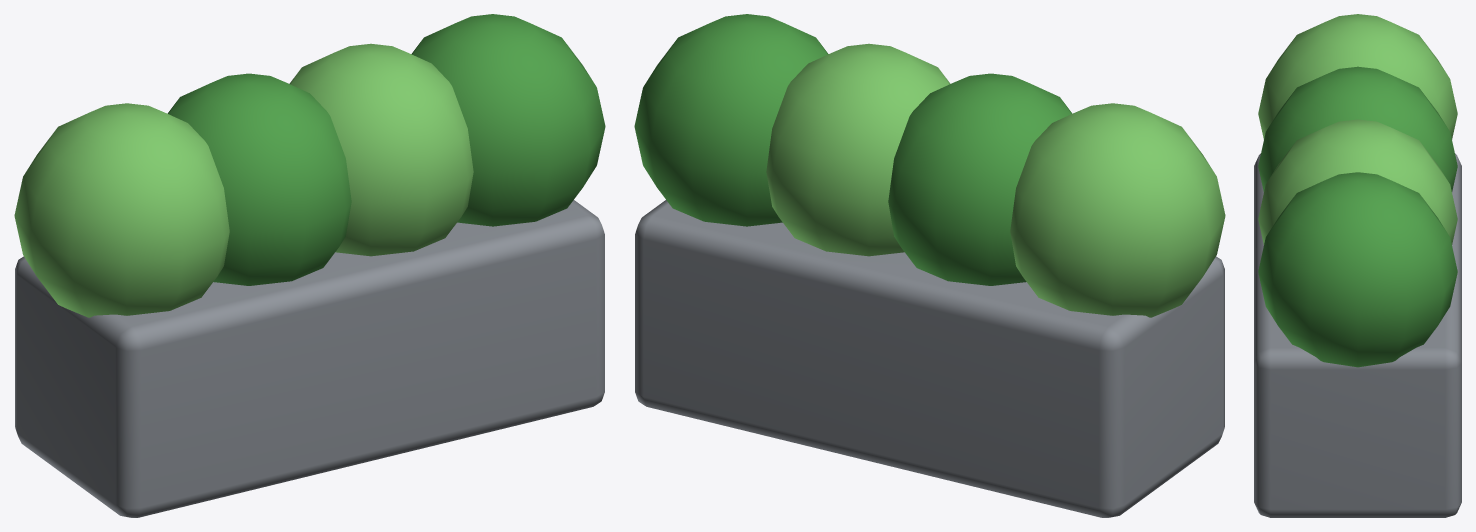
File: hedge_planter.glb
3 renders of one model, left to right at view 1: azimuth 30°, elevation 25°; view 2: azimuth 150°, elevation 25°; view 3: azimuth 270°, elevation 25°, orthographic. The views are drawn at different scales.
Parts seen in each view (by area): view 1: Box, Bush, Bush.003, Bush.001, Bush.002; view 2: Box, Bush, Bush.003, Bush.001, Bush.002; view 3: Box, Bush.003, Bush.001, Bush.002, Bush.
Boxes of the visible parts, x1,y1,x2,y2 form: Box: (15,200,604,517); Bush: (14,103,229,317); Bush.003: (411,14,605,226); Bush.001: (167,73,351,285); Bush.002: (289,43,473,256); Box: (635,200,1224,517); Bush: (1010,103,1225,317); Bush.003: (634,14,828,226); Bush.001: (888,73,1072,285); Bush.002: (766,43,950,256); Box: (1254,153,1461,517); Bush.003: (1258,172,1457,367); Bush.001: (1258,66,1457,191); Bush.002: (1258,119,1457,244); Bush: (1258,14,1457,139).
Bounding box in the file's own units: 1.38 × 0.84 × 0.5.
